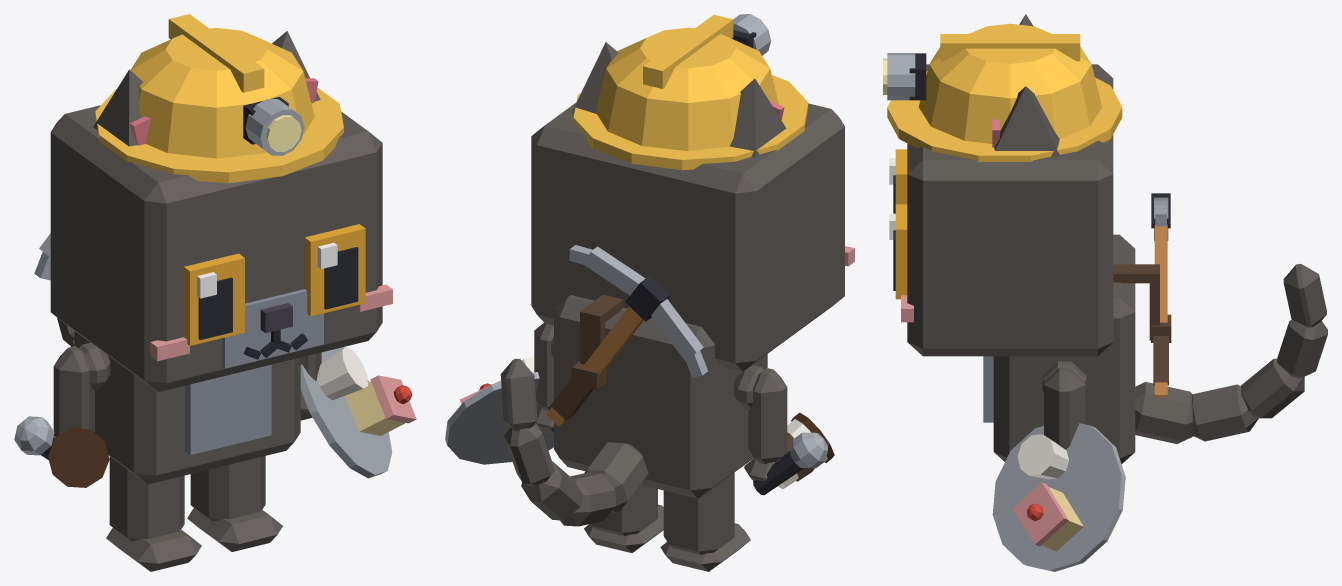
File: CatCafe_Cat_Lantern_Work.fbx
The picture shows the model from 3 angles, left to right: view 1: azimuth 30°, elevation 25°; view 2: azimuth 150°, elevation 25°; view 3: azimuth 270°, elevation 25°; orthographic projection. The views are drawn at different scales.
Visible parts, largest first — view 1: CatCafe_Cat_Lantern_Work_Head, CatCafe_Cat_Lantern_Work_Prop, CatCafe_Cat_Lantern_Work_Body, CatCafe_Cat_Lantern_Work_Held_Waiter, CatCafe_Cat_Lantern_Work_LegB2, CatCafe_Cat_Lantern_Work_LegB1, CatCafe_Cat_Lantern_Work_Eye1, CatCafe_Cat_Lantern_Work_Eye2, CatCafe_Cat_Lantern_Work_LegF2, CatCafe_Cat_Lantern_Work_Held_Barista, CatCafe_Cat_Lantern_Work_EarR, CatCafe_Cat_Lantern_Work_Held_Entertainer (+2 smaller); view 2: CatCafe_Cat_Lantern_Work_Head, CatCafe_Cat_Lantern_Work_Body, CatCafe_Cat_Lantern_Work_Prop, CatCafe_Cat_Lantern_Work_Tail, CatCafe_Cat_Lantern_Work_Prop2, CatCafe_Cat_Lantern_Work_LegB2, CatCafe_Cat_Lantern_Work_Held_Waiter, CatCafe_Cat_Lantern_Work_LegF2, CatCafe_Cat_Lantern_Work_LegB1, CatCafe_Cat_Lantern_Work_EarR, CatCafe_Cat_Lantern_Work_Held_Entertainer, CatCafe_Cat_Lantern_Work_LegF1 (+2 smaller); view 3: CatCafe_Cat_Lantern_Work_Head, CatCafe_Cat_Lantern_Work_Prop, CatCafe_Cat_Lantern_Work_Held_Waiter, CatCafe_Cat_Lantern_Work_Body, CatCafe_Cat_Lantern_Work_Tail, CatCafe_Cat_Lantern_Work_Prop2, CatCafe_Cat_Lantern_Work_EarL, CatCafe_Cat_Lantern_Work_LegF1, CatCafe_Cat_Lantern_Work_Eye1, CatCafe_Cat_Lantern_Work_Eye2.
Boxes of the visible parts, box(x1,y1,x2,y2) form: CatCafe_Cat_Lantern_Work_Head: box(50, 105, 392, 391); CatCafe_Cat_Lantern_Work_Prop: box(95, 14, 343, 183); CatCafe_Cat_Lantern_Work_Body: box(74, 331, 300, 484); CatCafe_Cat_Lantern_Work_Held_Waiter: box(300, 347, 416, 478); CatCafe_Cat_Lantern_Work_LegB2: box(106, 456, 201, 571); CatCafe_Cat_Lantern_Work_LegB1: box(187, 456, 282, 551); CatCafe_Cat_Lantern_Work_Eye1: box(304, 224, 365, 316); CatCafe_Cat_Lantern_Work_Eye2: box(184, 253, 244, 345); CatCafe_Cat_Lantern_Work_LegF2: box(53, 346, 94, 437); CatCafe_Cat_Lantern_Work_Held_Barista: box(48, 428, 109, 487); CatCafe_Cat_Lantern_Work_EarR: box(93, 69, 150, 146); CatCafe_Cat_Lantern_Work_Held_Entertainer: box(14, 416, 55, 460); CatCafe_Cat_Lantern_Work_Head: box(531, 102, 854, 371); CatCafe_Cat_Lantern_Work_Body: box(551, 295, 767, 498); CatCafe_Cat_Lantern_Work_Prop: box(573, 14, 808, 170); CatCafe_Cat_Lantern_Work_Tail: box(500, 358, 648, 526); CatCafe_Cat_Lantern_Work_Prop2: box(546, 245, 707, 426); CatCafe_Cat_Lantern_Work_LegB2: box(660, 472, 750, 571); CatCafe_Cat_Lantern_Work_Held_Waiter: box(445, 356, 553, 464); CatCafe_Cat_Lantern_Work_LegF2: box(744, 368, 787, 481); CatCafe_Cat_Lantern_Work_LegB1: box(584, 484, 663, 552); CatCafe_Cat_Lantern_Work_EarR: box(730, 78, 786, 157); CatCafe_Cat_Lantern_Work_Held_Entertainer: box(753, 432, 827, 495); CatCafe_Cat_Lantern_Work_LegF1: box(534, 323, 553, 435); CatCafe_Cat_Lantern_Work_Head: box(901, 64, 1113, 356); CatCafe_Cat_Lantern_Work_Prop: box(883, 23, 1122, 161); CatCafe_Cat_Lantern_Work_Held_Waiter: box(992, 423, 1125, 571); CatCafe_Cat_Lantern_Work_Body: box(983, 234, 1135, 463); CatCafe_Cat_Lantern_Work_Tail: box(1135, 264, 1327, 443); CatCafe_Cat_Lantern_Work_Prop2: box(1113, 193, 1171, 397); CatCafe_Cat_Lantern_Work_EarL: box(992, 86, 1059, 156); CatCafe_Cat_Lantern_Work_LegF1: box(1044, 367, 1084, 449); CatCafe_Cat_Lantern_Work_Eye1: box(889, 204, 907, 299); CatCafe_Cat_Lantern_Work_Eye2: box(889, 149, 907, 213).
Size of the model in its own units: 1.53 by 1.97 by 1.64.
Materials: 1 (1 with a texture image).
